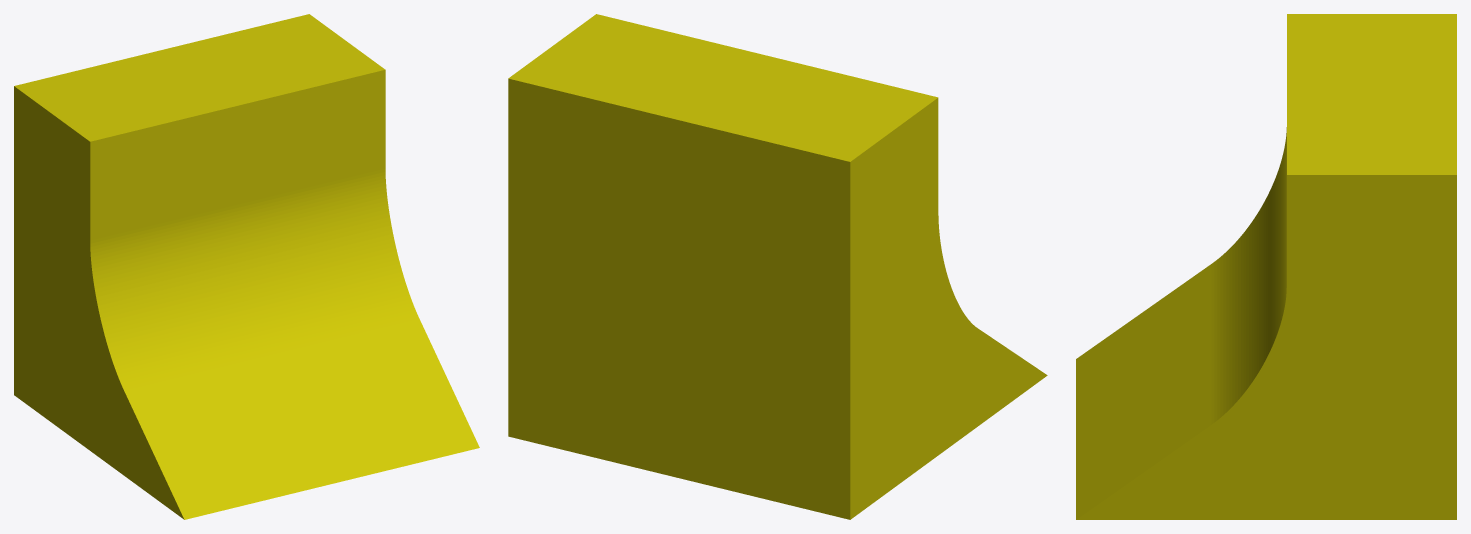
Rendered from l-yellow.obj.
3 renders of one model, left to right at view 1: azimuth 30°, elevation 25°; view 2: azimuth 150°, elevation 25°; view 3: azimuth 270°, elevation 25°, orthographic. The views are drawn at different scales.
Visible parts, largest first — view 1: Cube; view 2: Cube; view 3: Cube.
Part boxes in pixels (x1,y1,x2,y2): Cube: [14, 14, 479, 519]; Cube: [508, 14, 1047, 519]; Cube: [1076, 14, 1456, 519].
Bounding box in the file's own units: 2 × 2 × 2.
